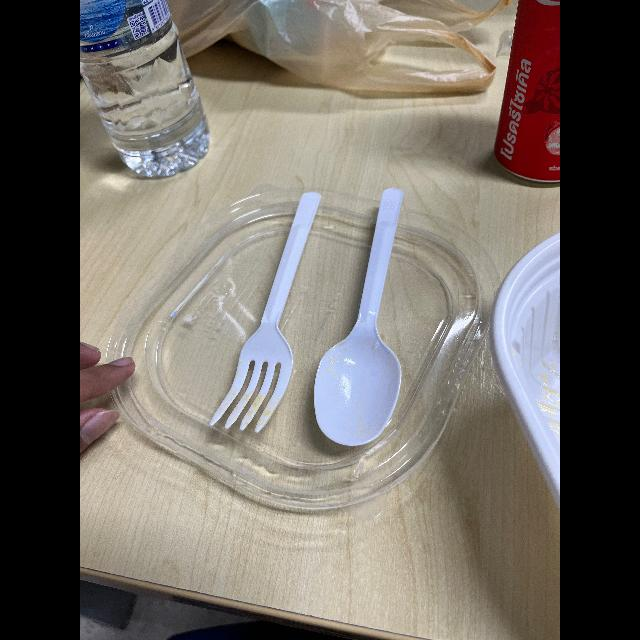plastic_cultery: (301, 184, 427, 460), (198, 192, 330, 442)
